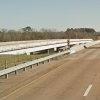Bridge: (3, 31, 96, 59)
